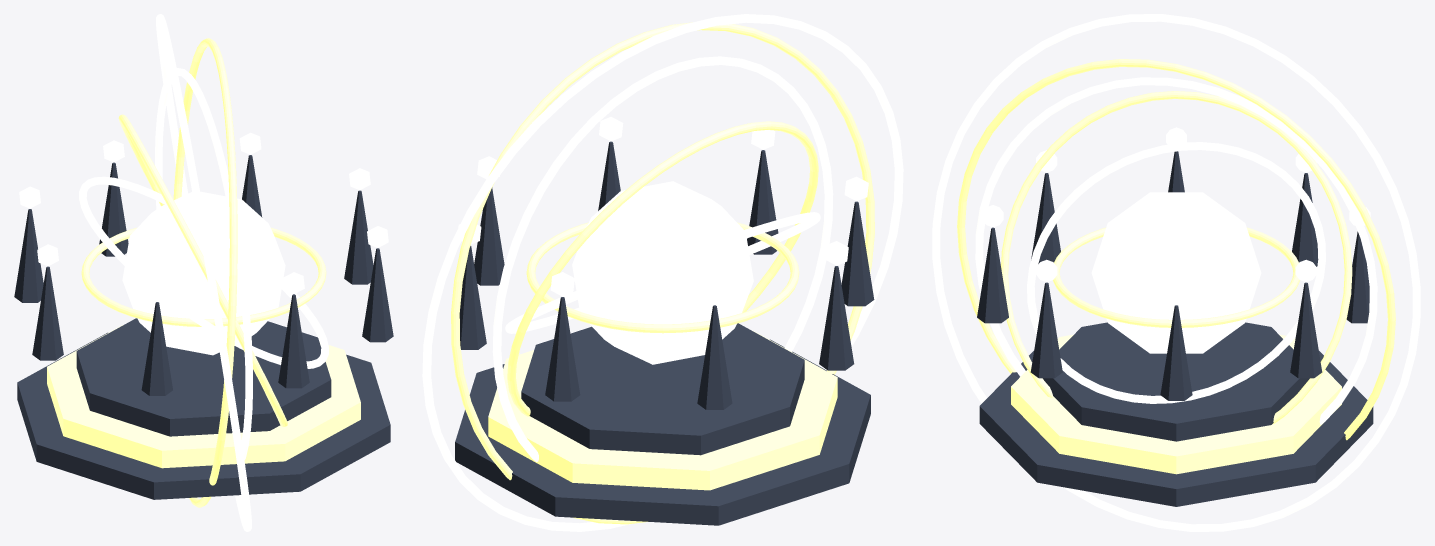
The model's file is gpu-blender-v16.glb.
3 renders of one model, left to right at view 1: azimuth 30°, elevation 25°; view 2: azimuth 150°, elevation 25°; view 3: azimuth 270°, elevation 25°, orthographic. The views are drawn at different scales.
Visible parts, largest first — view 1: Cylinder.002, Cylinder, SovereignCore_producthunt-connector, Cylinder.001, Torus.005, Torus.004, Torus.003, Torus.001, Torus, Torus.002, Cone.007, Cone.006 (+6 smaller); view 2: Cylinder.002, SovereignCore_producthunt-connector, Cylinder, Cylinder.001, Torus.005, Torus.004, Torus.003, Torus.002, Torus.001, Torus, Cone.004, Cone.002 (+6 smaller); view 3: SovereignCore_producthunt-connector, Cylinder.002, Cylinder, Cylinder.001, Torus.005, Torus.004, Torus.003, Torus.002, Torus.001, Torus, Cone.001, Cone.007 (+5 smaller).
Boxes of the visible parts, x1,y1,x2,y2 form: Cylinder.002: (76,318,331,436); Cylinder: (17,332,390,499); SovereignCore_producthunt-connector: (122,191,285,355); Cylinder.001: (47,325,360,468); Torus.005: (156,14,251,531); Torus.004: (173,38,237,507); Torus.003: (155,68,252,459); Torus.001: (79,176,328,368); Torus: (81,227,326,326); Torus.002: (118,114,287,426); Cone.007: (362,248,393,342); Cone.006: (278,294,309,388); Cylinder.002: (521,323,804,455); SovereignCore_producthunt-connector: (572,181,753,364); Cylinder: (455,339,870,525); Cylinder.001: (488,330,837,490); Torus.005: (422,14,903,531); Torus.004: (451,22,874,524); Torus.003: (492,56,833,461); Torus.002: (507,121,818,416); Torus.001: (505,212,820,333); Torus: (526,222,799,333); Cone.004: (819,266,854,370); Cone.002: (545,297,580,401); SovereignCore_producthunt-connector: (1091,192,1261,353); Cylinder.002: (1043,322,1309,441); Cylinder: (979,351,1373,506); Cylinder.001: (1011,334,1341,474); Torus.005: (932,14,1420,531); Torus.004: (957,59,1395,440); Torus.003: (975,77,1377,424); Torus.002: (1001,91,1352,423); Torus.001: (1027,142,1325,403); Torus: (1053,227,1299,327); Cone.001: (1290,282,1322,378); Cone.007: (1030,282,1062,378).
Bounding box in the file's own units: 4.41 × 5.93 × 5.46.
